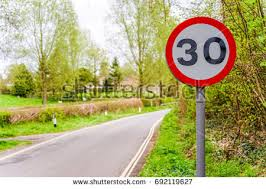Speed_limit_30km: (165, 17, 237, 87)
